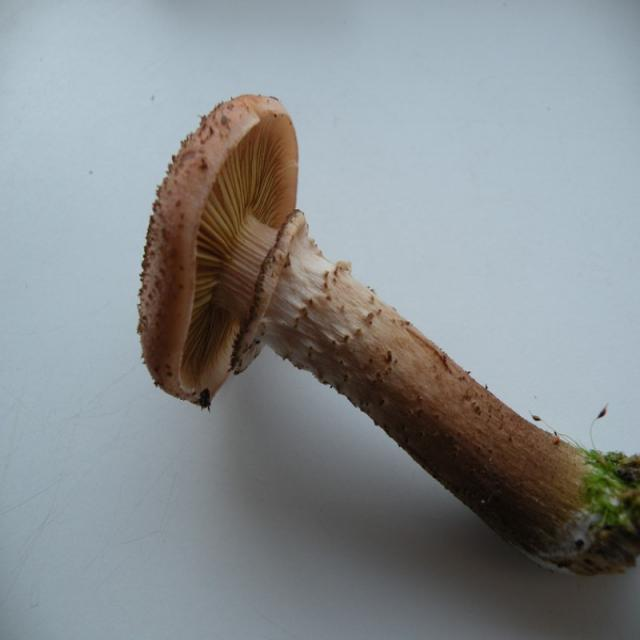Armillaria mellea: (137, 90, 640, 575)
